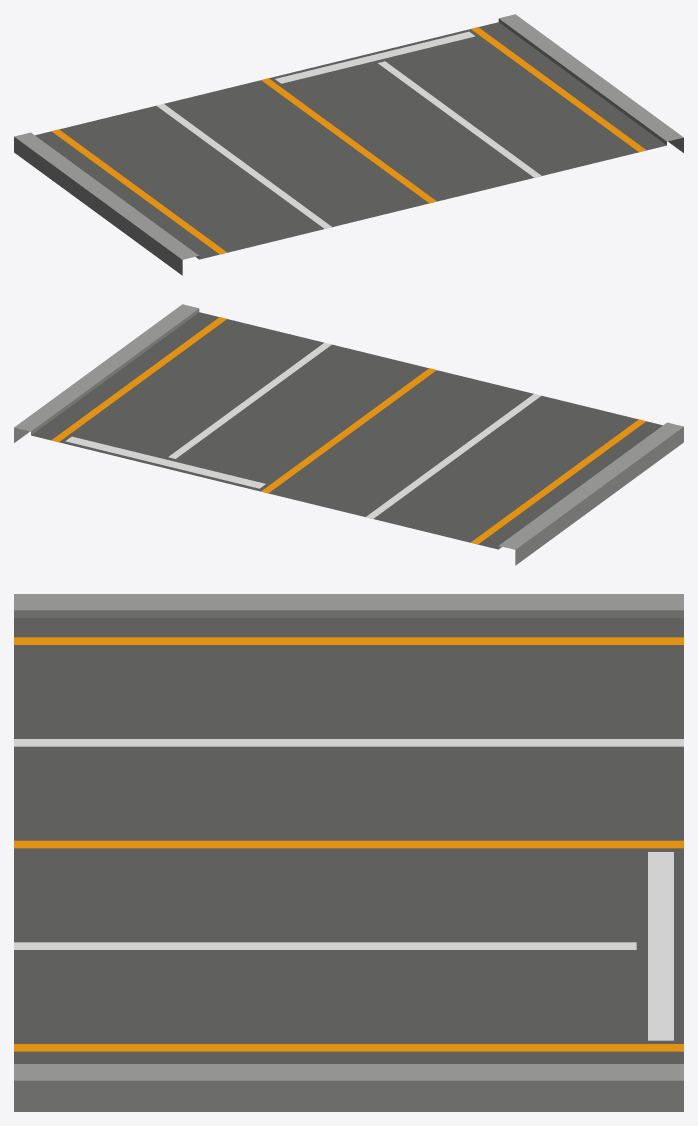
Rendered from Road_B_2L_2_7.fbx.
3 renders of one model, top to bottom at view 1: azimuth 30°, elevation 25°; view 2: azimuth 150°, elevation 25°; view 3: azimuth 270°, elevation 25°, orthographic. The views are drawn at different scales.
Visible parts, largest first — view 1: Road_B_2L_2_7; view 2: Road_B_2L_2_7; view 3: Road_B_2L_2_7.
Boxes of the visible parts, <box> form: Road_B_2L_2_7: <box>14,14,683,275</box>; Road_B_2L_2_7: <box>14,304,683,565</box>; Road_B_2L_2_7: <box>14,594,683,1111</box>.
Bounding box in the file's own units: 1375 × 41.48 × 800.
